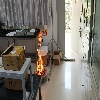fire: (36, 32, 44, 75)
